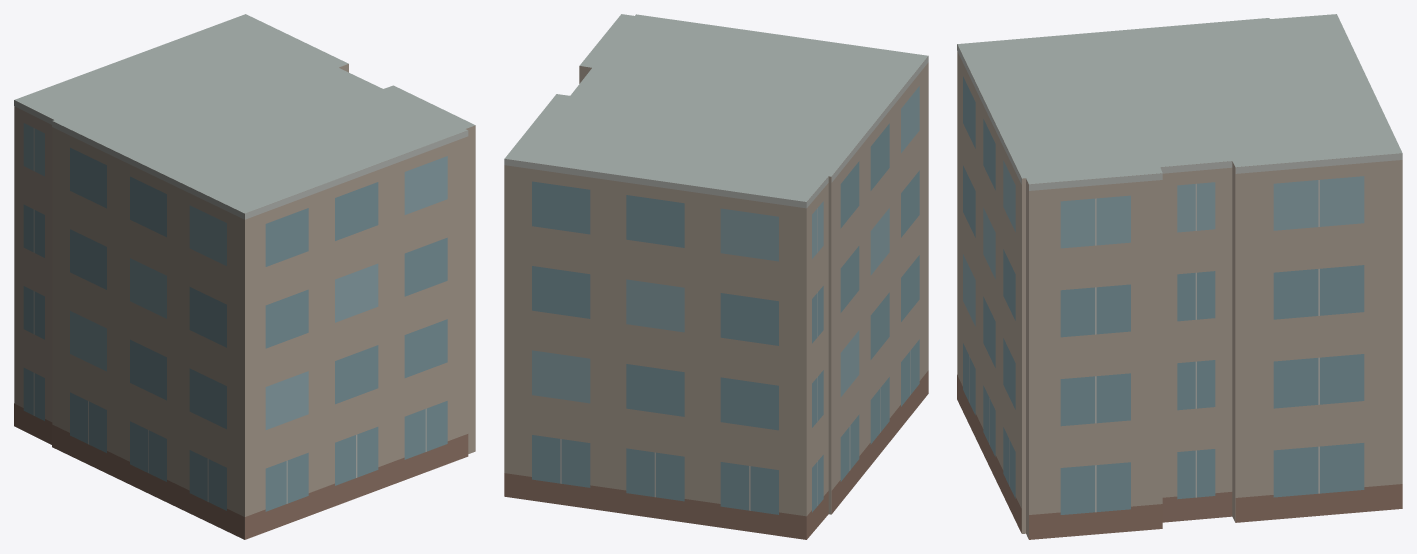
File: survey-upis-32726781.glb
The picture shows the model from 3 angles, left to right: view 1: azimuth 30°, elevation 25°; view 2: azimuth 150°, elevation 25°; view 3: azimuth 270°, elevation 25°; orthographic projection. The views are drawn at different scales.
Parts seen in each view (by area): view 1: survey-upis-32726781.tmp; view 2: survey-upis-32726781.tmp; view 3: survey-upis-32726781.tmp.
Boxes of the visible parts, x1,y1,x2,y2 form: survey-upis-32726781.tmp: (14,14,475,539); survey-upis-32726781.tmp: (504,14,928,539); survey-upis-32726781.tmp: (957,14,1402,539).
Size of the model in its own units: 13.31 by 12.95 by 14.71.
